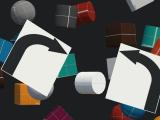Left: (105, 43, 160, 113)
Right: (1, 19, 72, 97)
